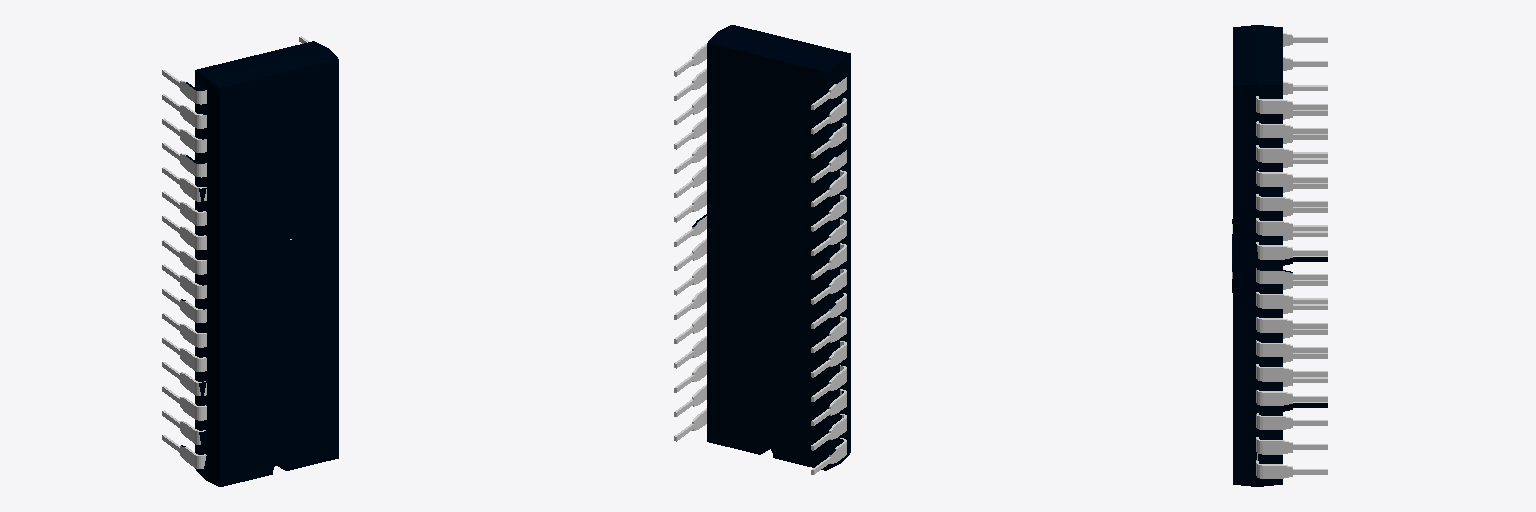
The model's file is flat2.obj.
3 views of the same model, side by side, from view 1: azimuth 30°, elevation 25°; view 2: azimuth 150°, elevation 25°; view 3: azimuth 270°, elevation 25° (orthographic).
Parts seen in each view (by area): view 1: Object.1; view 2: Object.1; view 3: Object.1.
Boxes of the visible parts, x1,y1,x2,y2 form: Object.1: [162, 36, 338, 486]; Object.1: [674, 25, 850, 474]; Object.1: [1232, 25, 1327, 486].
Size of the model in its own units: 152 by 420 by 90.9.